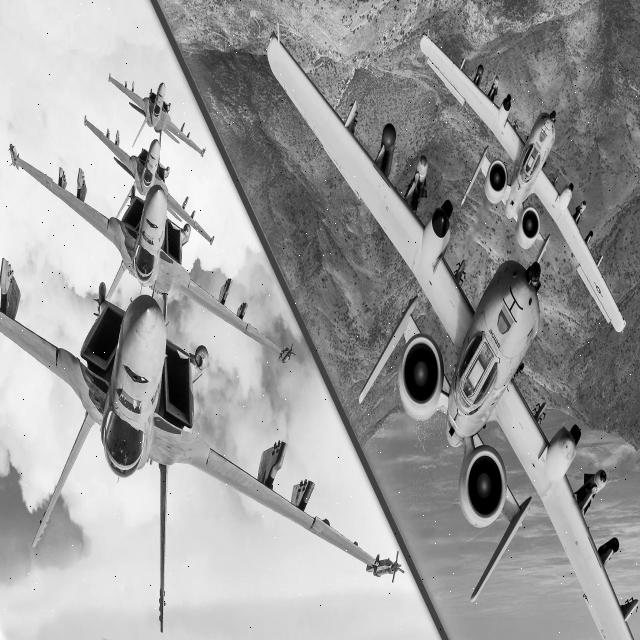A10: (246, 0, 639, 636), (0, 289, 414, 625), (398, 18, 640, 334), (0, 136, 298, 380), (100, 52, 226, 156)
